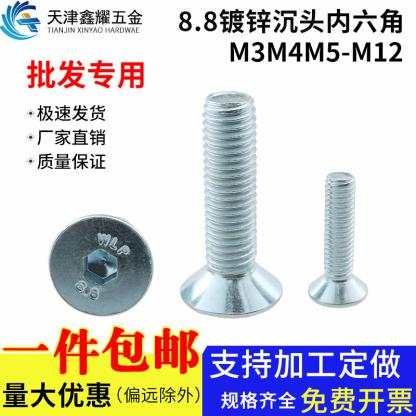FOD: (179, 88, 285, 321), (46, 213, 159, 318), (303, 169, 371, 309)
